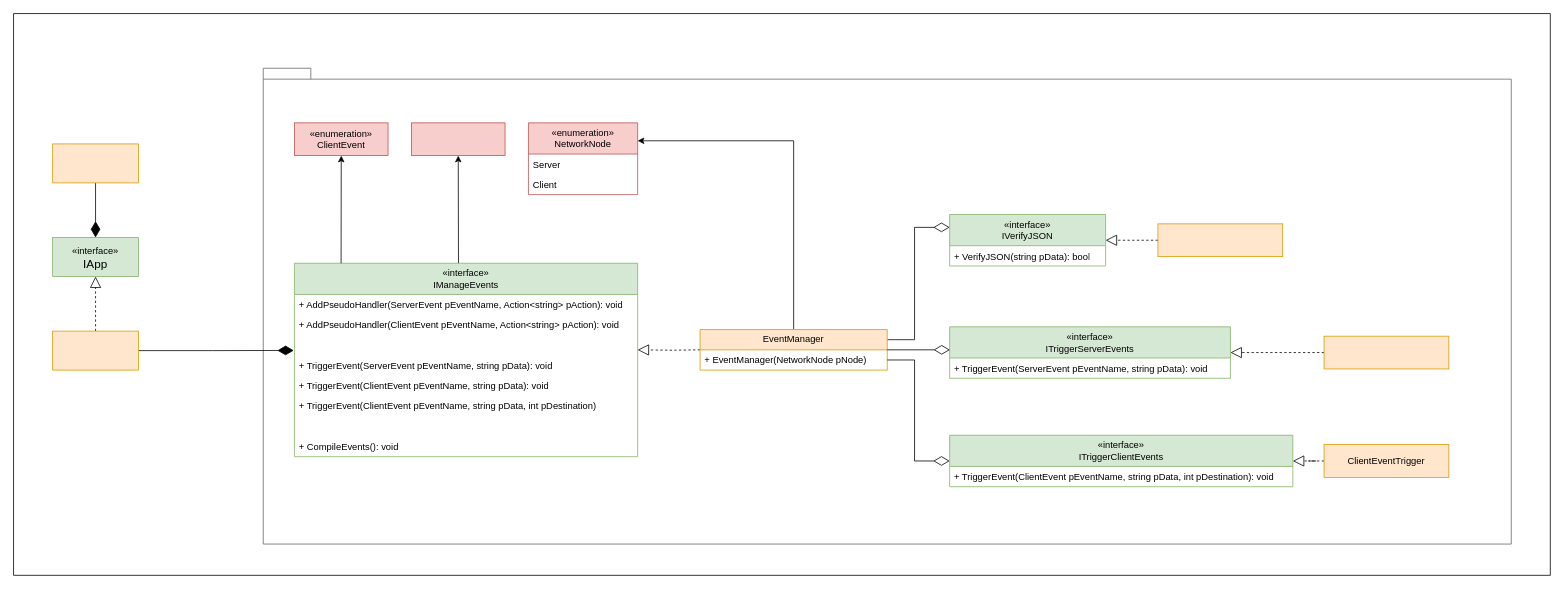
This 1564x589 diagram has some shape labels left out. The shapes that lost their labels are listed below. From the top down, each one's centre as x and y in pixels, then its label:
pixel 458 139: «enumeration» ServerEvent
pixel 95 163: Main
pixel 1220 240: JSONVerifier
pixel 95 350: App
pixel 1386 352: ServerEventTrigger
